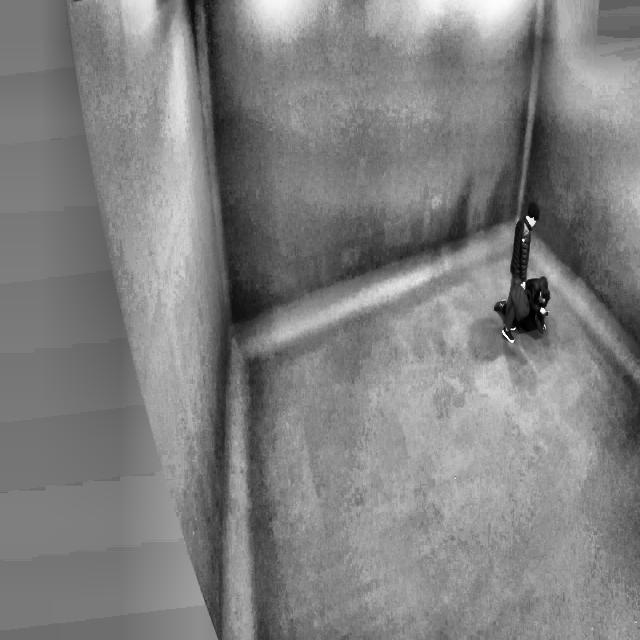assult: (497, 194, 560, 347)
